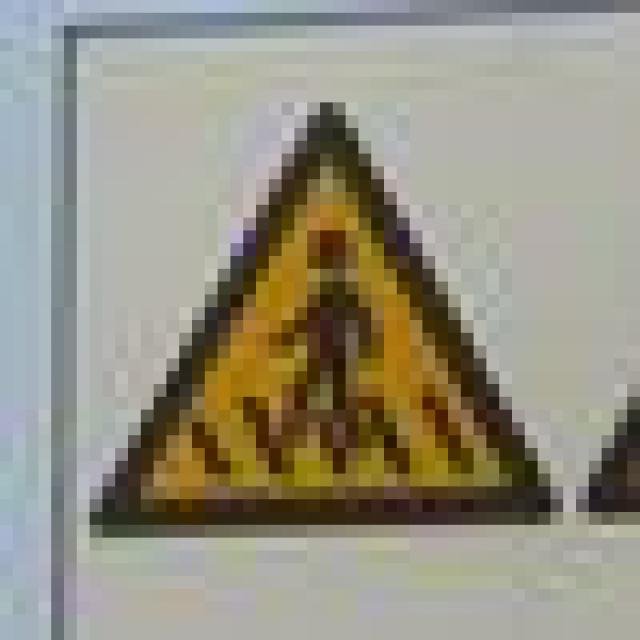pass_either_side: (64, 90, 550, 512)
